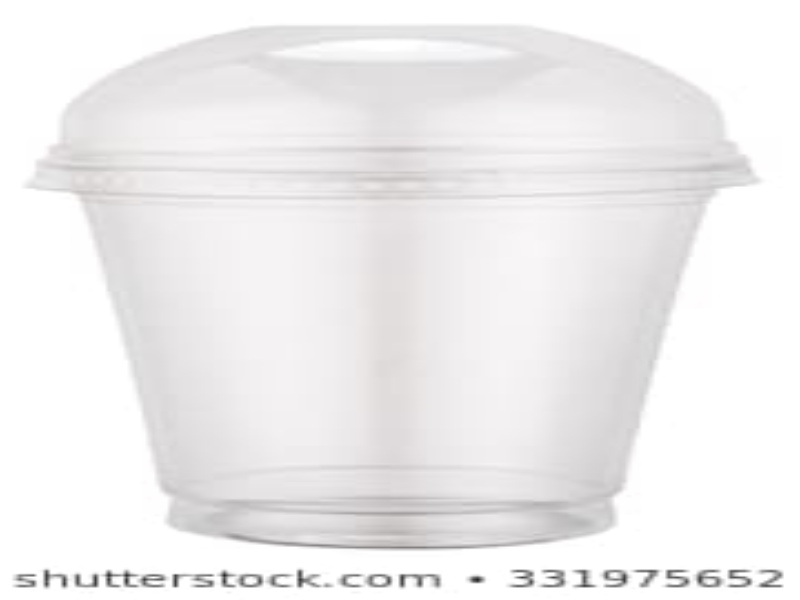plastic-cup: (23, 18, 761, 557)
